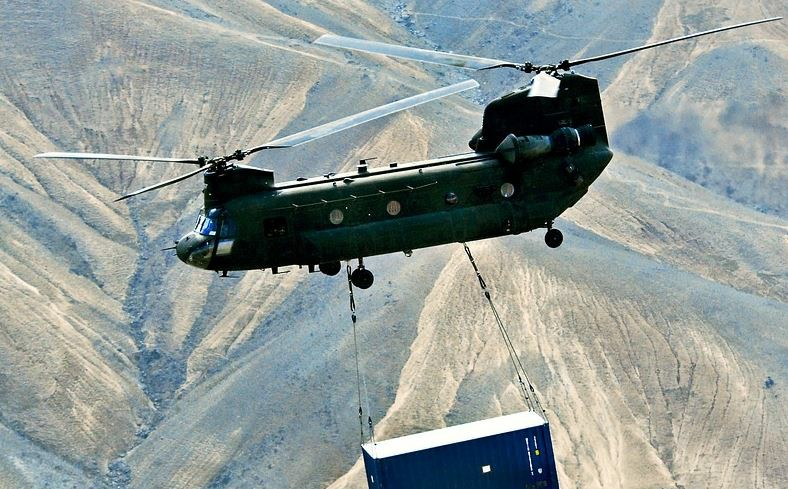chinook: (148, 51, 613, 275)
